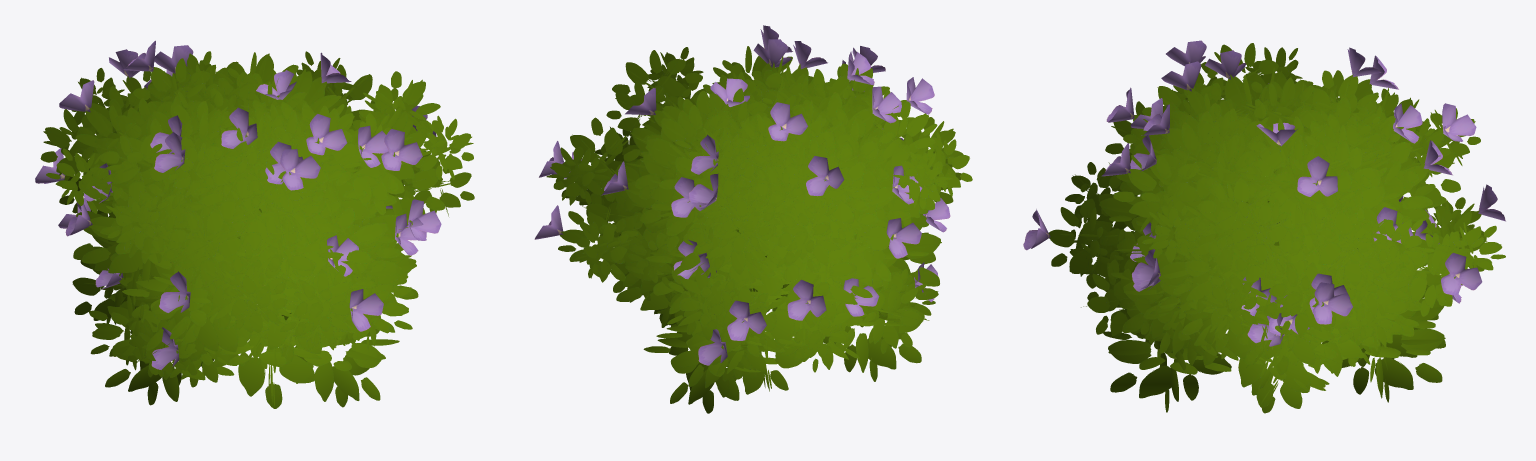
The model's file is bush_common_flowers.glb.
3 views of the same model, side by side, from view 1: azimuth 30°, elevation 25°; view 2: azimuth 150°, elevation 25°; view 3: azimuth 270°, elevation 25° (orthographic). The views are drawn at different scales.
Parts seen in each view (by area): view 1: Bush_Common_Flowers; view 2: Bush_Common_Flowers; view 3: Bush_Common_Flowers.
Part boxes in pixels (box(x1,y1,x2,y2)): Bush_Common_Flowers: box(35, 40, 474, 408); Bush_Common_Flowers: box(534, 25, 972, 413); Bush_Common_Flowers: box(1023, 40, 1505, 413).
Size of the model in its own units: 1.91 by 1.58 by 1.97.
2 materials, 2 textured.
